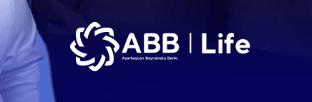ABB: (68, 19, 121, 72)
